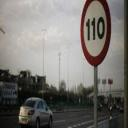speed_limit_110: (80, 0, 110, 63)
